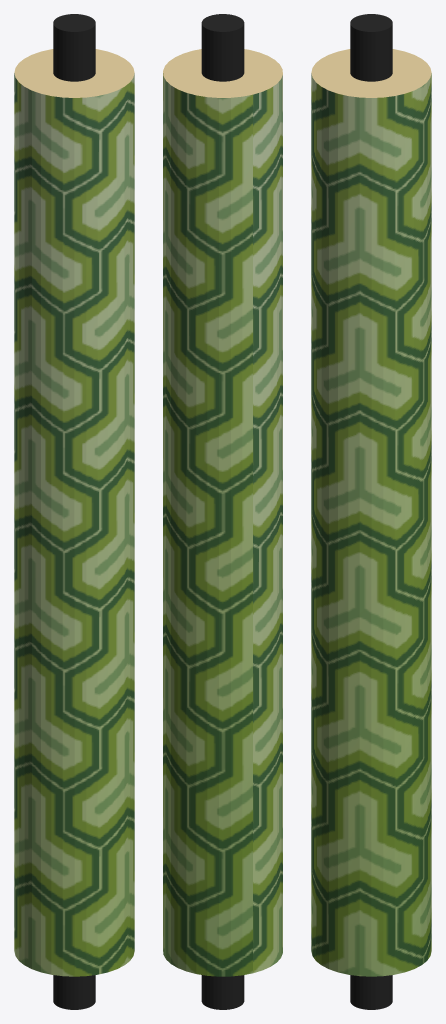
File: makimono2.fbx
The picture shows the model from 3 angles, left to right: view 1: azimuth 90°, elevation 25°; view 2: azimuth 210°, elevation 25°; view 3: azimuth 270°, elevation 25°; orthographic projection.
Visible parts, largest first — view 1: 円柱, 円柱.001; view 2: 円柱, 円柱.001; view 3: 円柱, 円柱.001.
Part boxes in pixels (left/top/right/bottom): 円柱: left=14, top=49, right=134, bottom=976; 円柱.001: left=53, top=14, right=95, bottom=1009; 円柱: left=163, top=49, right=282, bottom=976; 円柱.001: left=201, top=14, right=244, bottom=1009; 円柱: left=311, top=49, right=431, bottom=976; 円柱.001: left=350, top=14, right=392, bottom=1009.
Bounding box in the file's own units: 62 × 557 × 62.
Materials: 3 (1 with a texture image).
